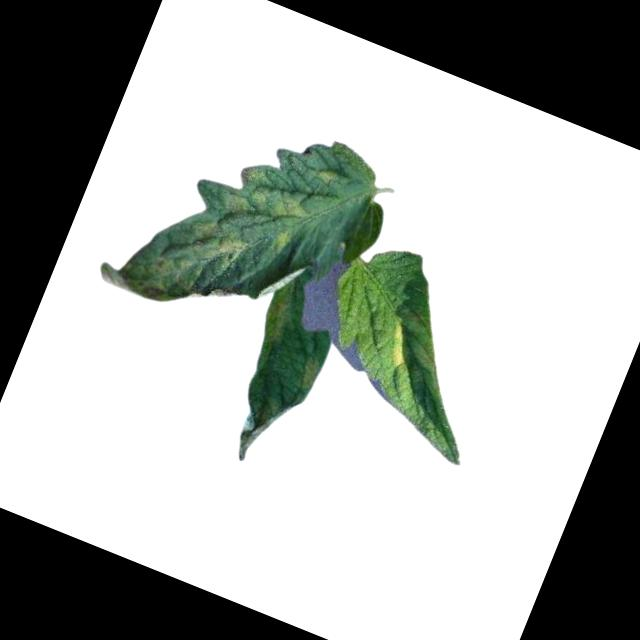Leaf_Mold: (95, 188, 252, 329), (214, 154, 316, 238), (377, 318, 418, 372), (263, 224, 295, 260), (296, 355, 325, 390), (312, 165, 338, 191)
